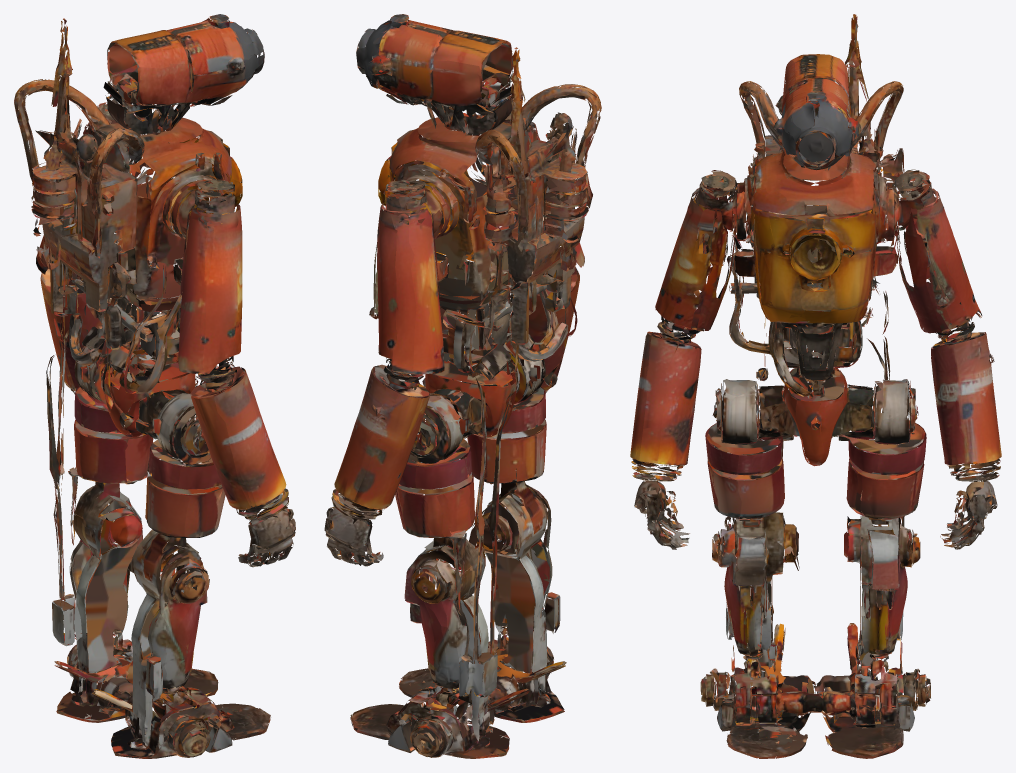
The model's file is character_retex.glb.
3 renders of one model, left to right at view 1: azimuth 30°, elevation 25°; view 2: azimuth 150°, elevation 25°; view 3: azimuth 270°, elevation 25°, orthographic. The views are drawn at different scales.
Visible parts, largest first — view 1: character_retex; view 2: character_retex; view 3: character_retex.
Part boxes in pixels (x1,y1,x2,y2): character_retex: (14, 14, 295, 758); character_retex: (324, 14, 601, 758); character_retex: (630, 14, 1001, 758).
Bounding box in the file's own units: 0.3283 × 1 × 0.5015.
Materials: 1 (1 with a texture image).
